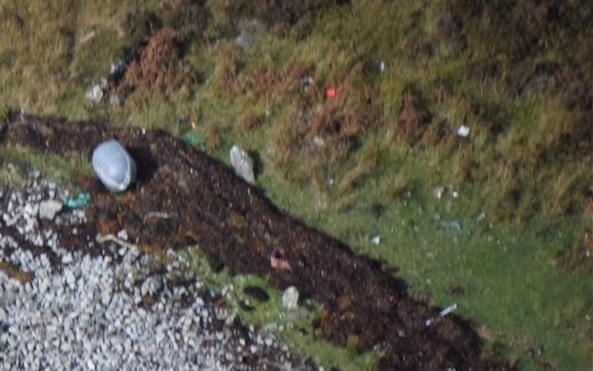net: (58, 185, 93, 214)
scattered_barrel: (318, 48, 482, 144)
white_in_green: (55, 113, 177, 220), (244, 220, 329, 294)
